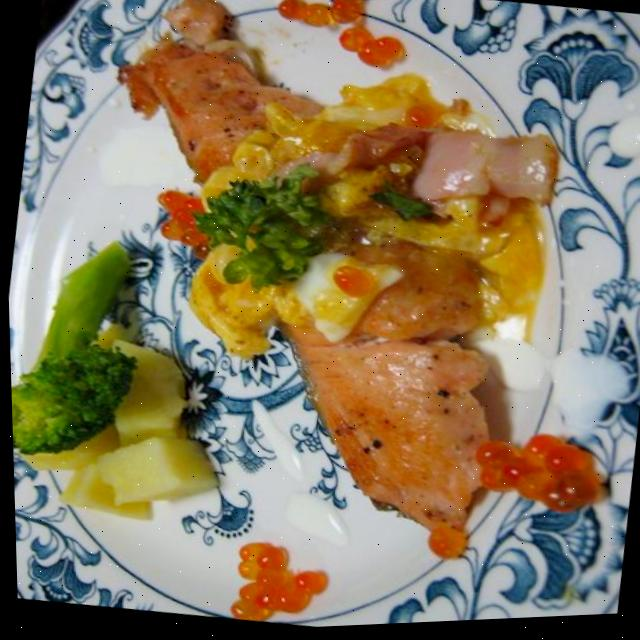熟制海鲜: (50, 0, 603, 576)
